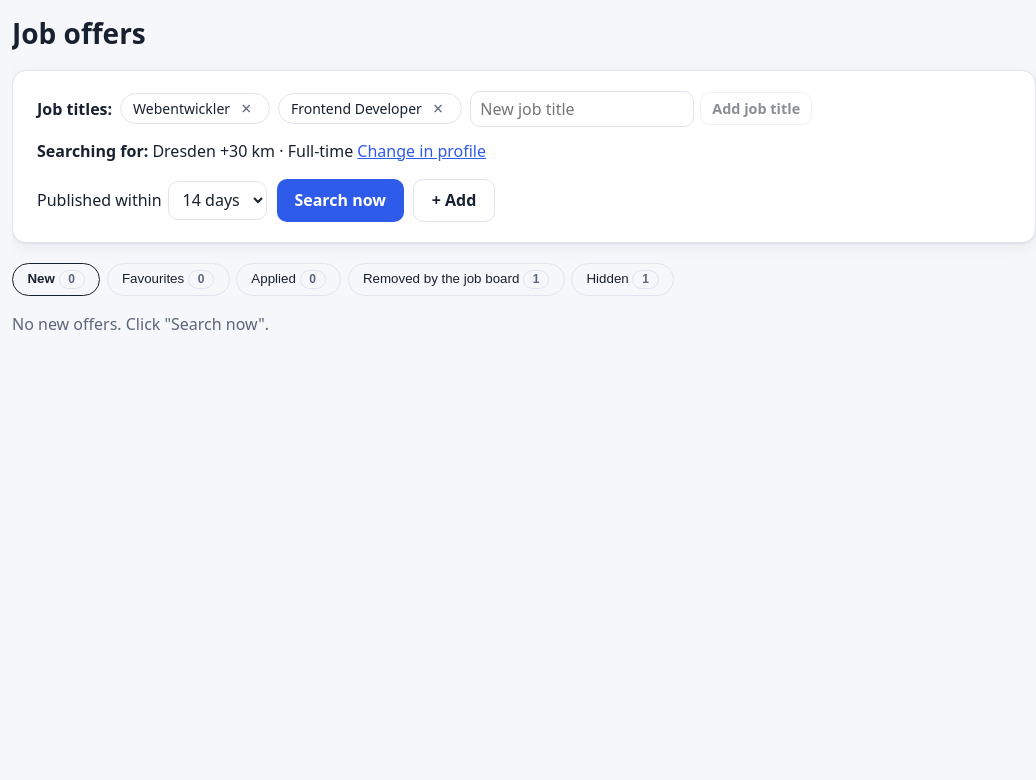
VacancyList › hidden tab: "Bring back"; stale tab: "Remove"
Click the tab "Hidden 1" at (623, 279), box x1=571 y1=263 x2=674 y2=296
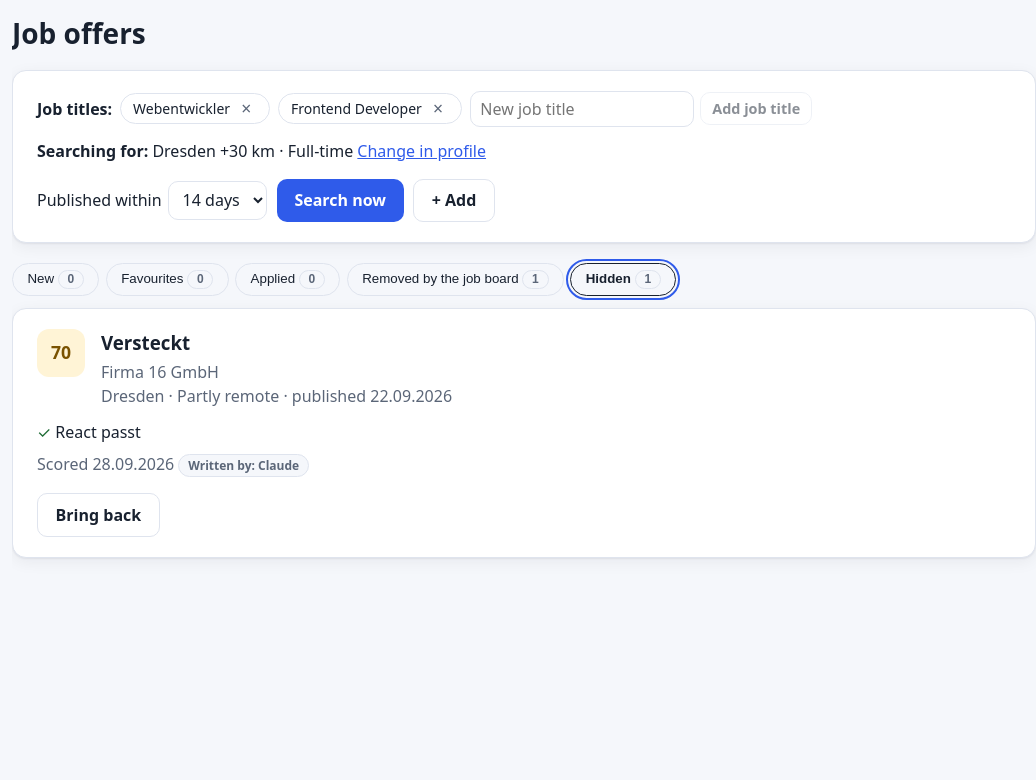
Click the button "Bring back" at (98, 515), box x1=37 y1=493 x2=160 y2=537
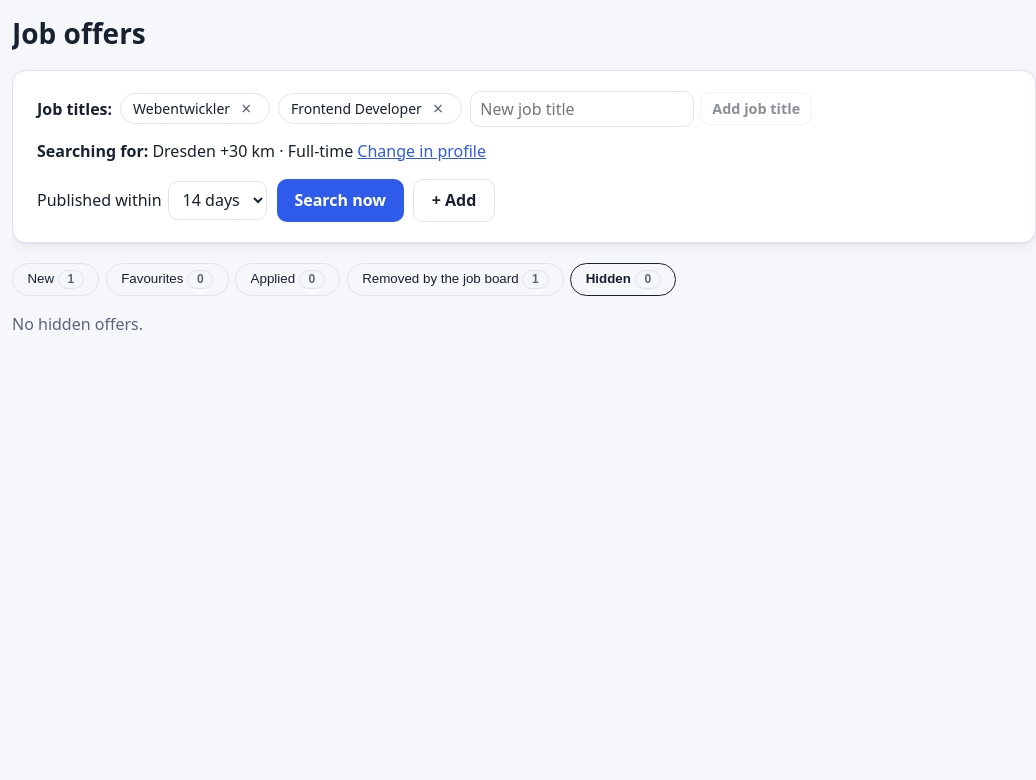
Now the tab "New 1" is shown, box x1=12 y1=263 x2=99 y2=296
Click the tab "Removed by the job board 1" at (455, 279), box x1=347 y1=263 x2=564 y2=296
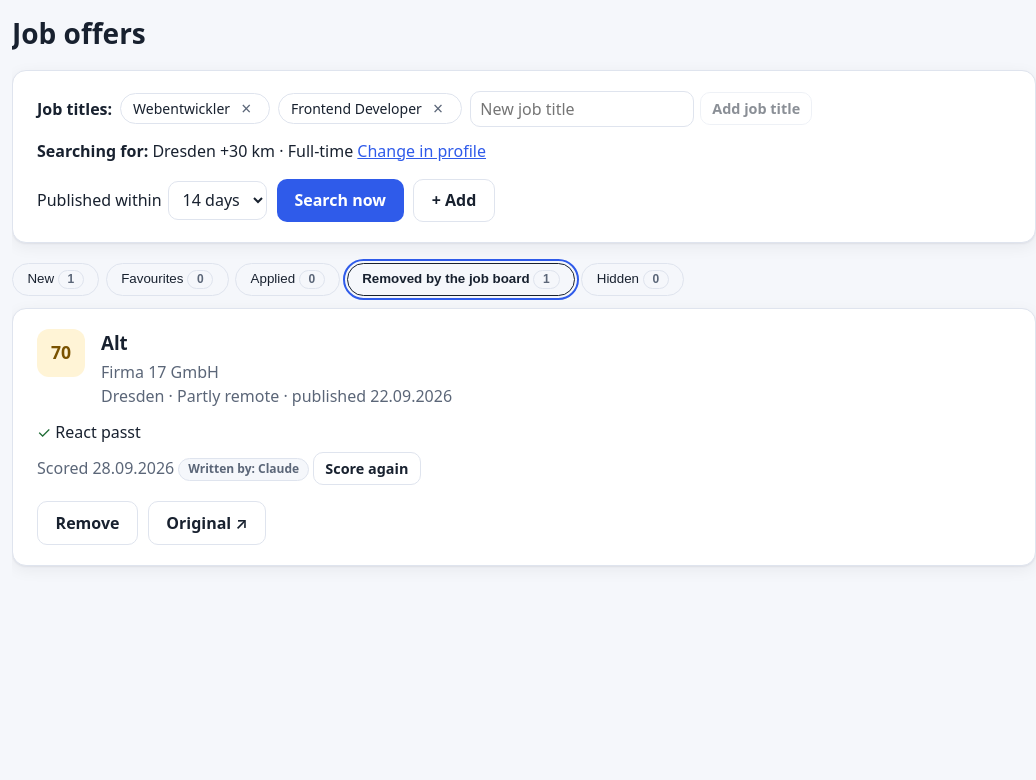
Click the button "Remove" at (88, 523), box x1=37 y1=501 x2=138 y2=545
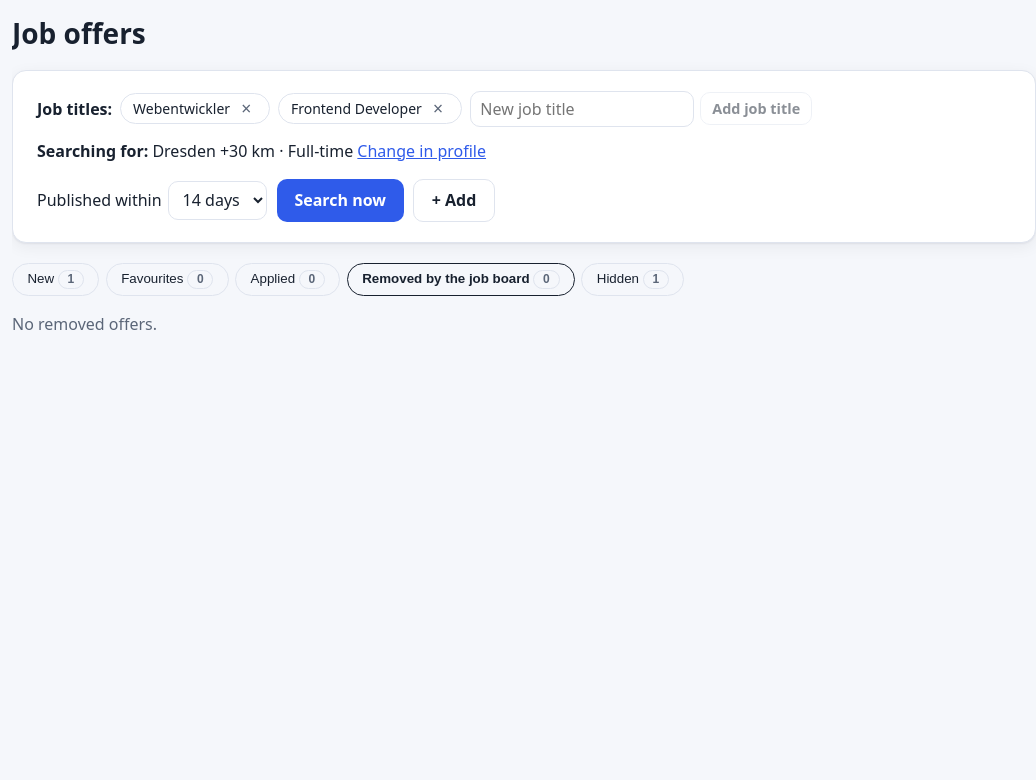
Now the tab "Hidden 1" is shown, box x1=581 y1=263 x2=684 y2=296
